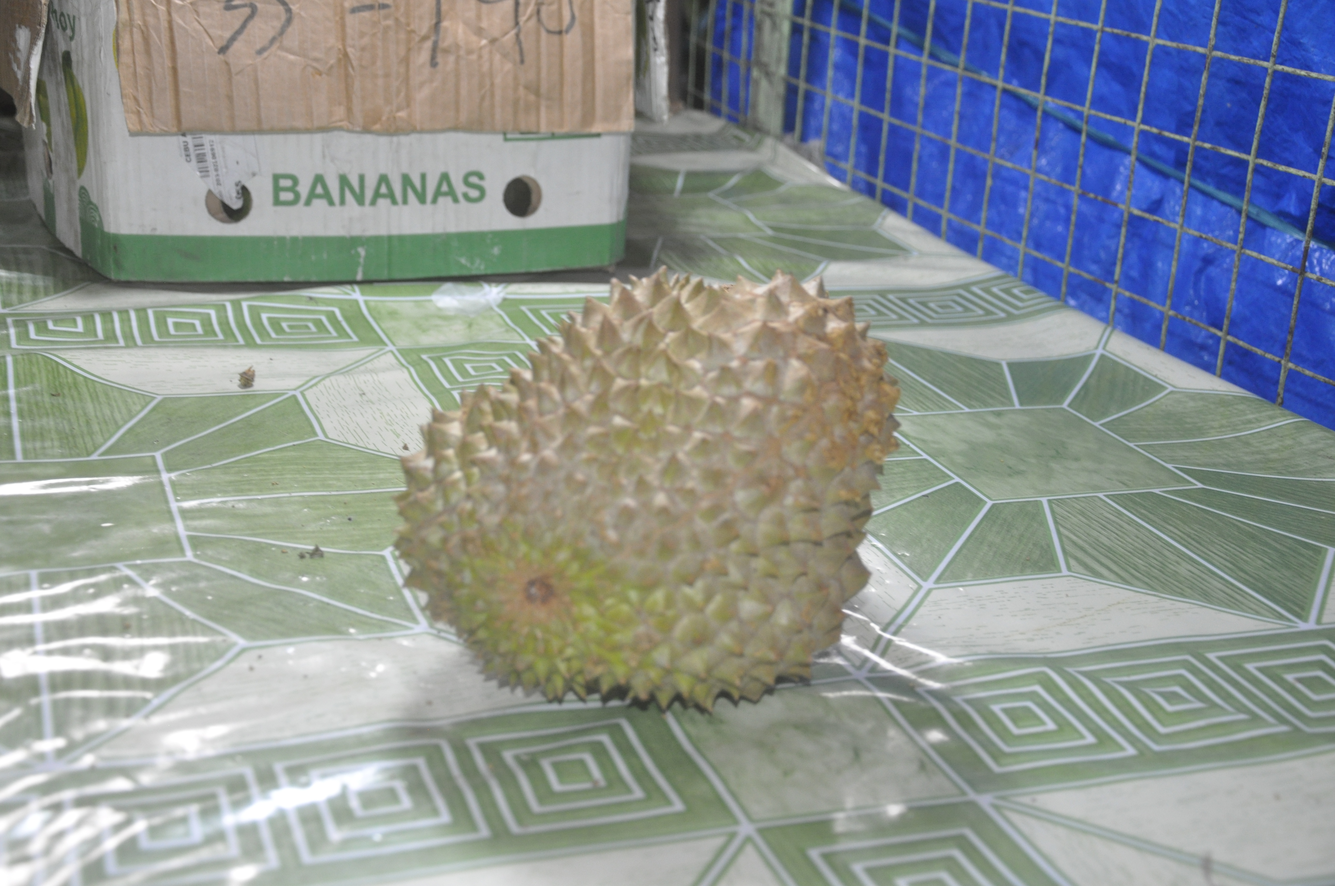mature: (396, 270, 899, 710)
